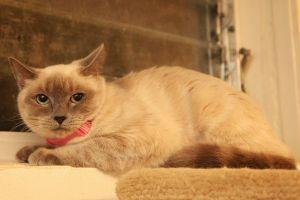siamese: (6, 43, 113, 149)
